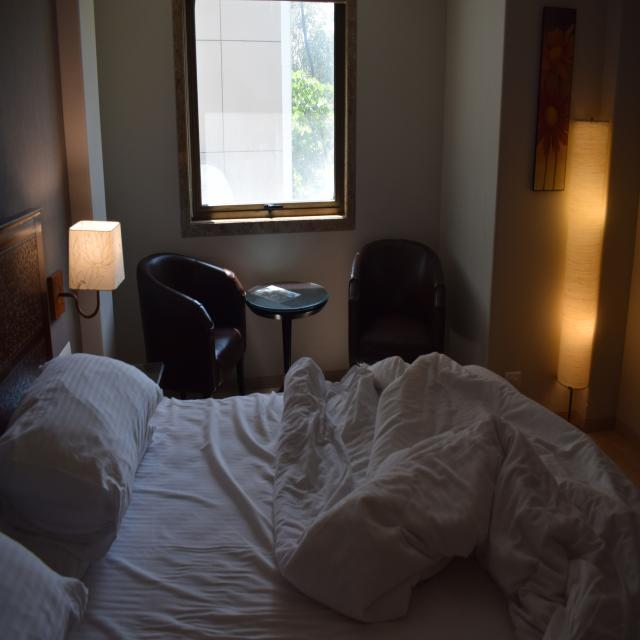mess: (45, 350, 625, 640)
